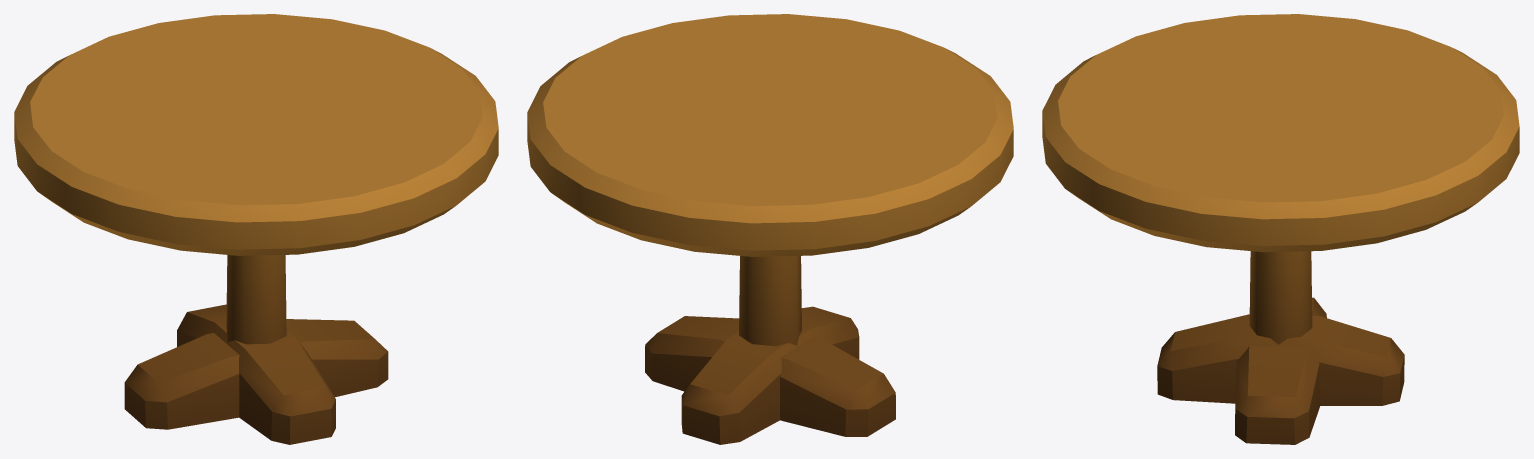
The model's file is Table_1_A.glb.
3 views of the same model, side by side, from view 1: azimuth 30°, elevation 25°; view 2: azimuth 150°, elevation 25°; view 3: azimuth 270°, elevation 25° (orthographic).
Visible parts, largest first — view 1: Table_1_A; view 2: Table_1_A; view 3: Table_1_A.
Part boxes in pixels (left/top/right/bottom): Table_1_A: left=14, top=14, right=498, bottom=444; Table_1_A: left=527, top=14, right=1013, bottom=444; Table_1_A: left=1042, top=14, right=1519, bottom=444.
Bounding box in the file's own units: 1.23 × 0.8 × 1.23.
Materials: 1 (1 with a texture image).
